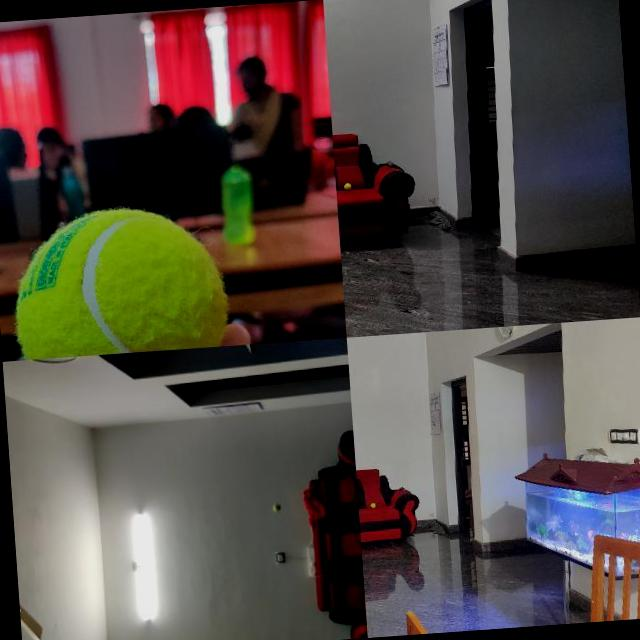Tennis Ball: (9, 202, 228, 359), (272, 503, 280, 512), (343, 182, 351, 190), (370, 503, 375, 508)
